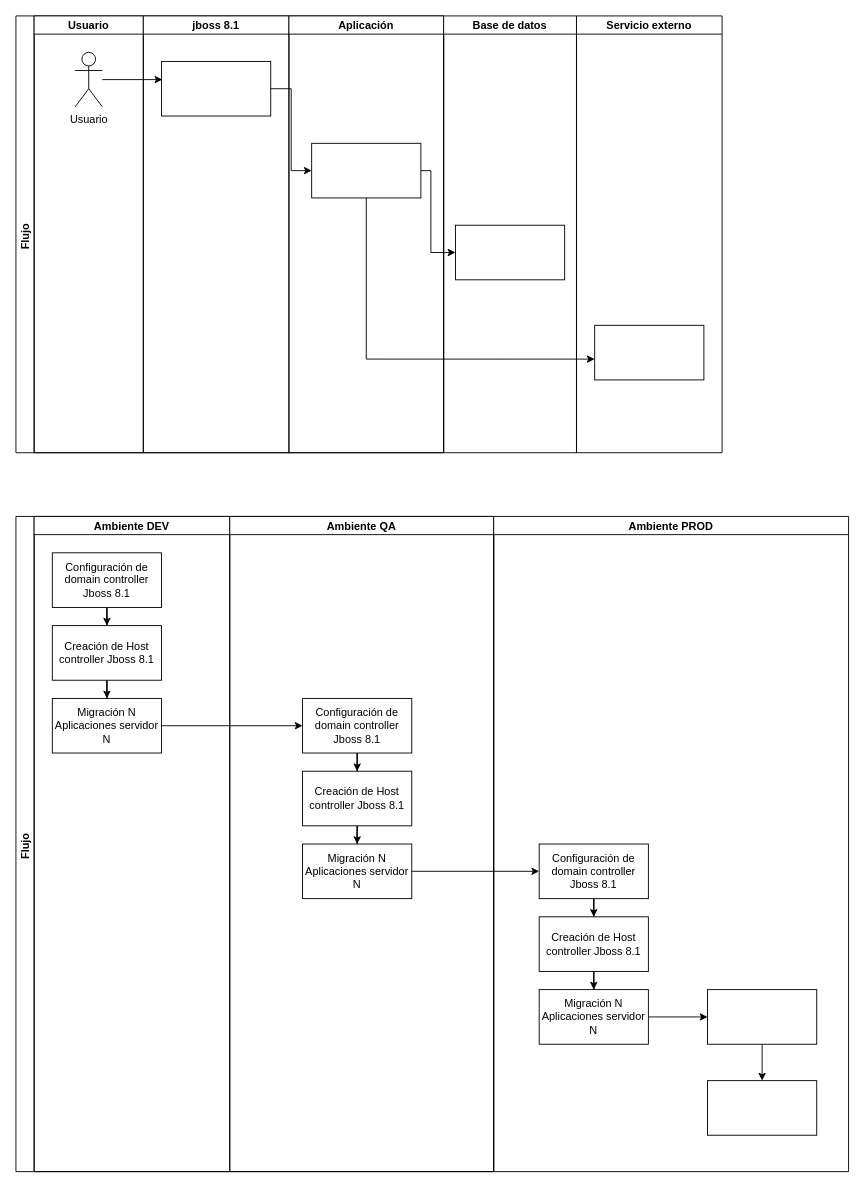
Some shapes in this 865 by 1188 pixel diagram are drawn without their labels. The shapes that lost their labels are listed below. From the top down, each one's centre as x and y in pixels, then its label:
At [216,88]: "Nueva Infraestructura (Ip puerto)".
At [366,170]: "Aplicaciones migradas".
At [510,252]: "Servicio de base de datos".
At [649,352]: "Servicios externos proveedores".
At [762,1016]: "Publicación y Reemplazo de Host controller".
At [762,1107]: "Añadir Nuevo Domain controller a Servidor de monitoreo".
